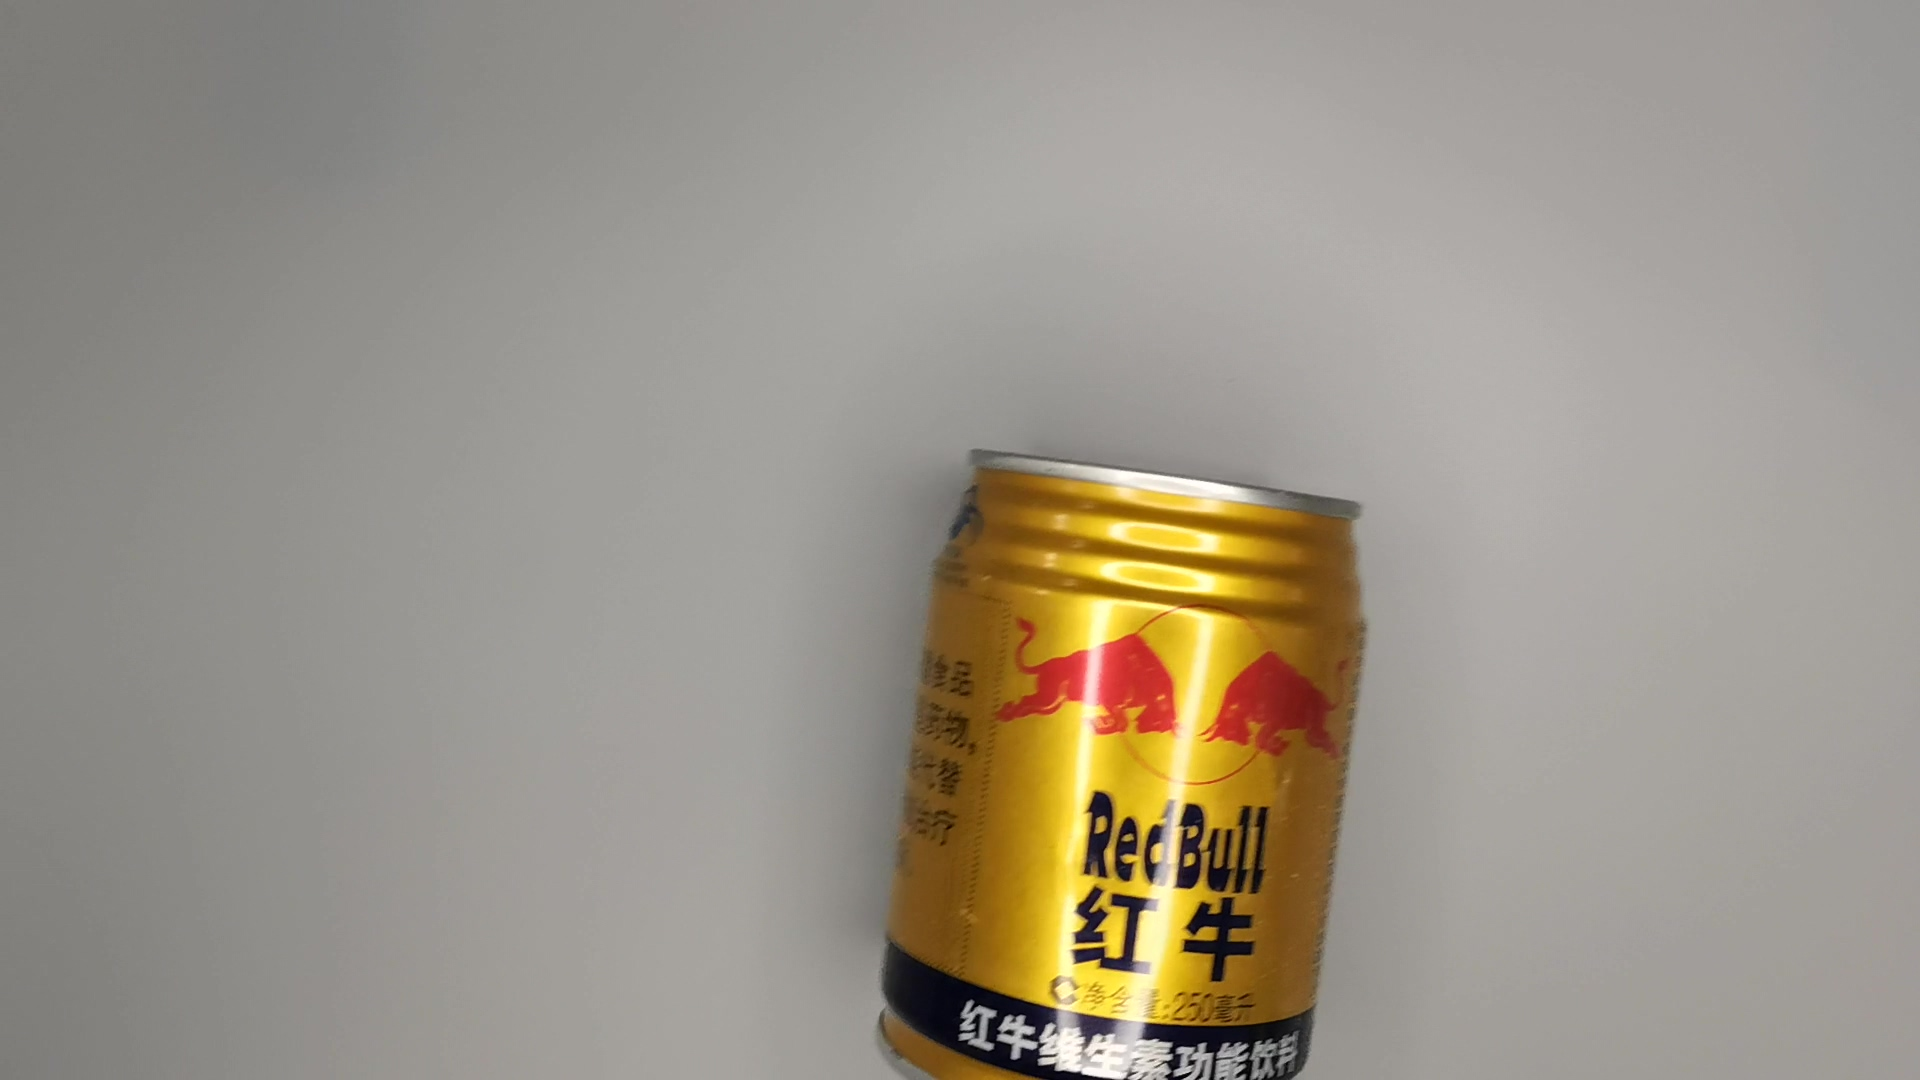can: (866, 434, 1371, 1080)
